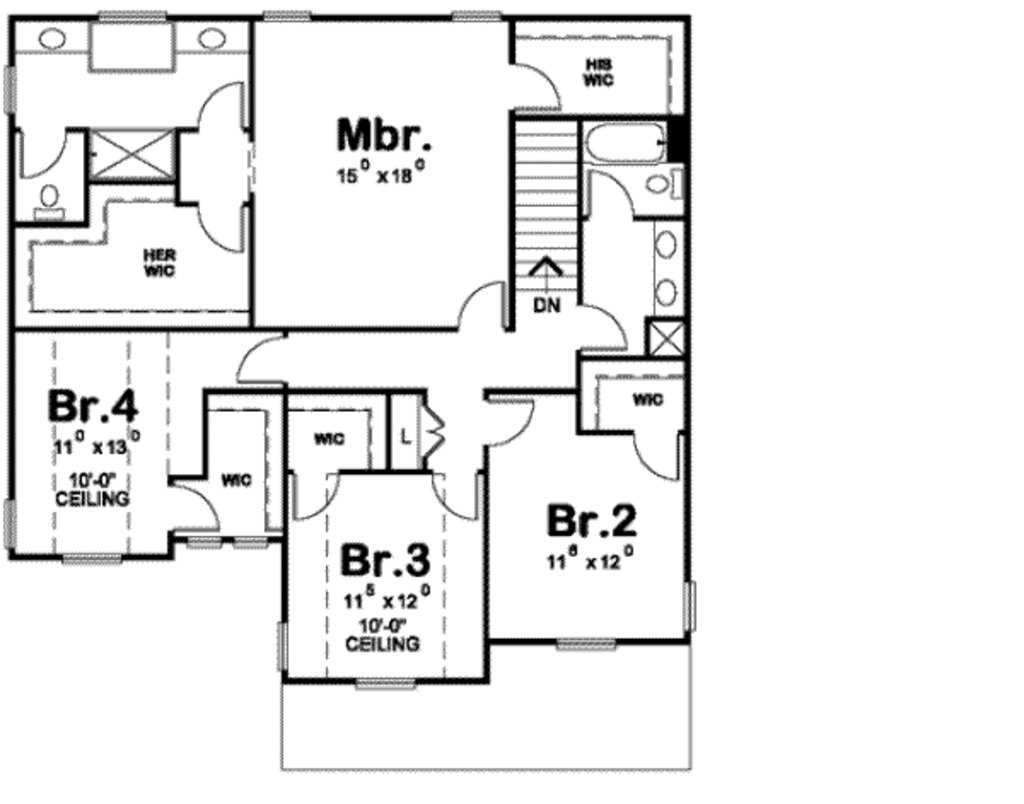door: (504, 59, 573, 122), (625, 428, 684, 491), (186, 204, 254, 258), (576, 172, 641, 228), (15, 131, 77, 187), (165, 478, 224, 536), (187, 80, 248, 135), (452, 276, 507, 335), (229, 333, 287, 386), (482, 396, 540, 448), (427, 465, 480, 521), (291, 469, 343, 522), (582, 304, 636, 355)
large_sink: (21, 178, 75, 224), (643, 164, 687, 215)
small_sink: (652, 219, 684, 322)
stairs: (508, 114, 585, 328)
tub: (576, 119, 673, 165)
window: (93, 1, 171, 30), (553, 635, 617, 659), (354, 676, 412, 696), (680, 578, 699, 636), (257, 8, 315, 26), (274, 624, 292, 676), (2, 68, 20, 119), (57, 552, 121, 565), (452, 11, 501, 27)
